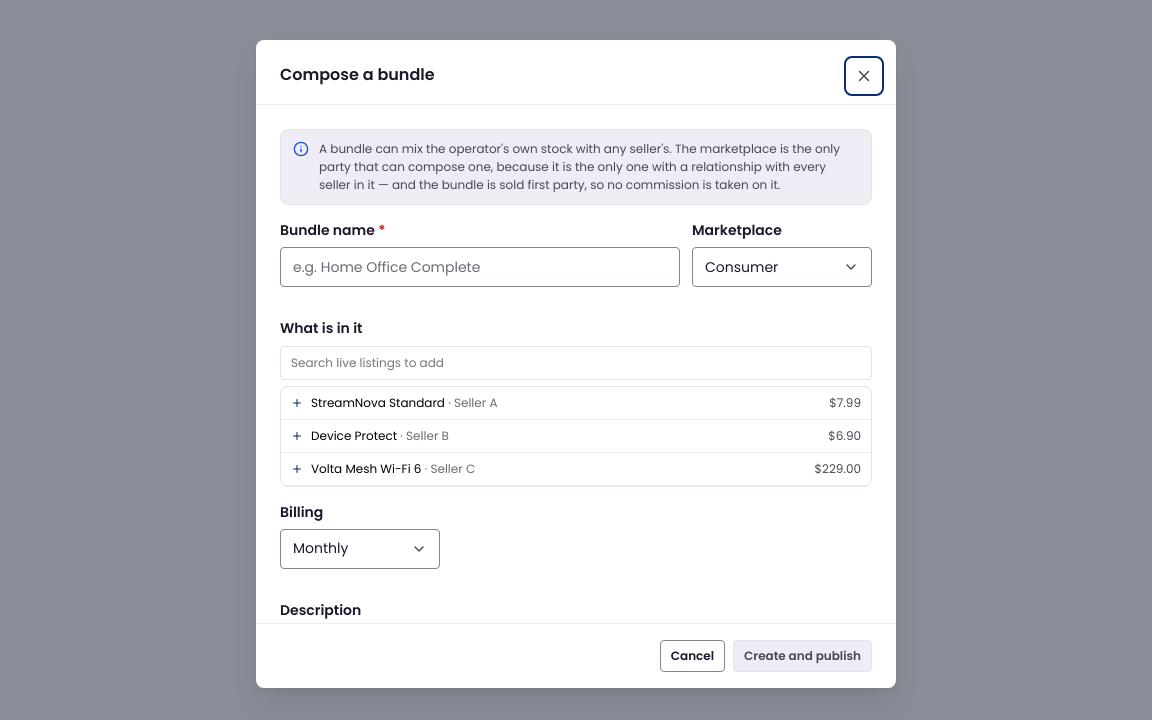
Test case: Compose a bundle, priced line by line › refuses a line below its seller floor and says which
Click the button "StreamNova Standard · Seller A $7.99" at (378, 402), box [281,387,871,420]
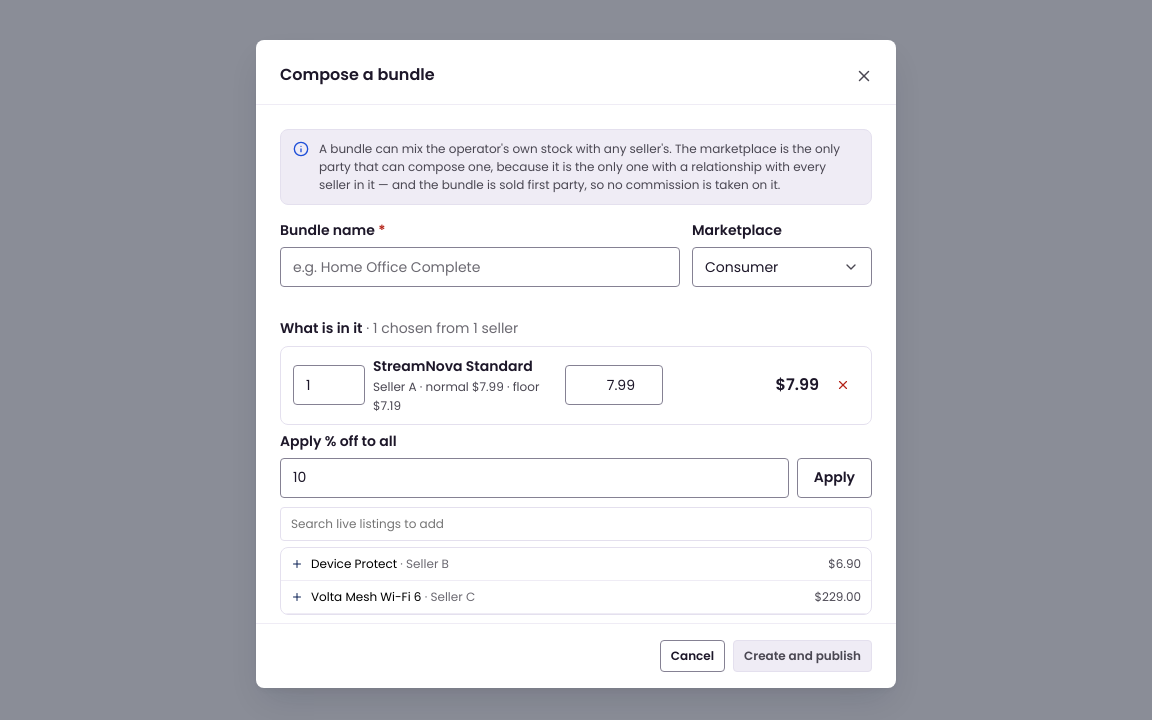
Click the button "Device Protect · Seller B $6.90" at (354, 563), box [281,548,871,581]
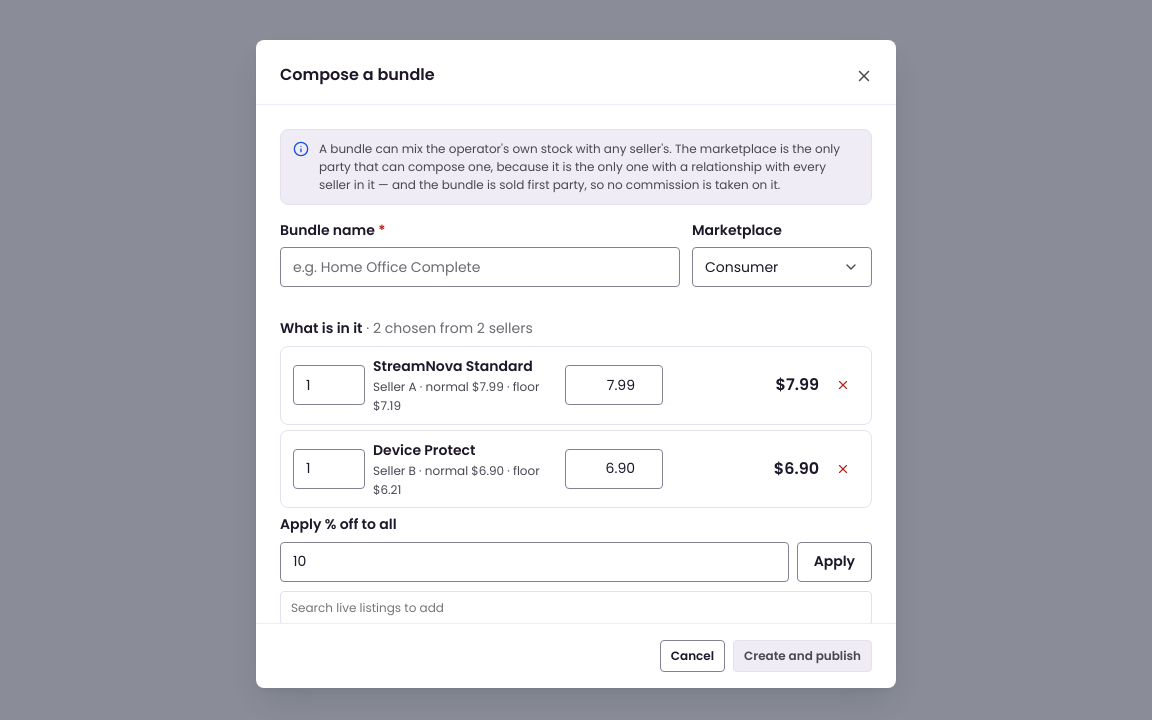
Type "Kit" into the field labelled "Bundle name *" at (480, 267), box [280,247,680,287]
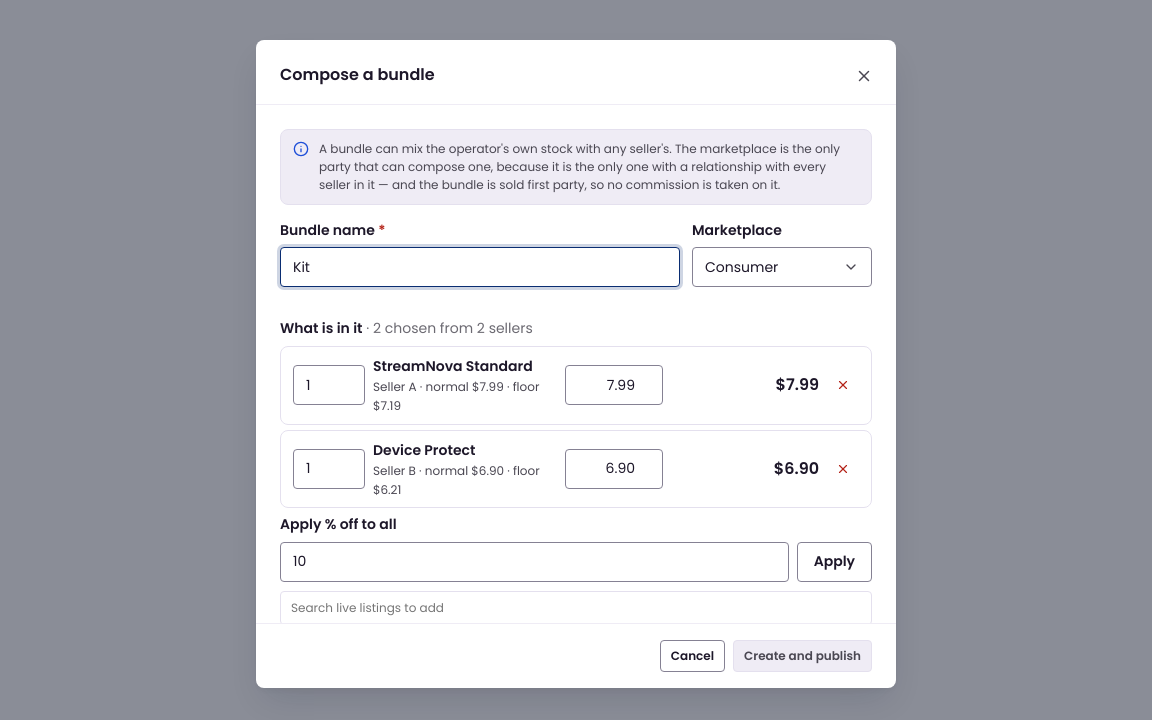
Replace the text in the number field named "Price in bundle for StreamNova Standard" with "7" at (614, 385), box [565,365,663,405]
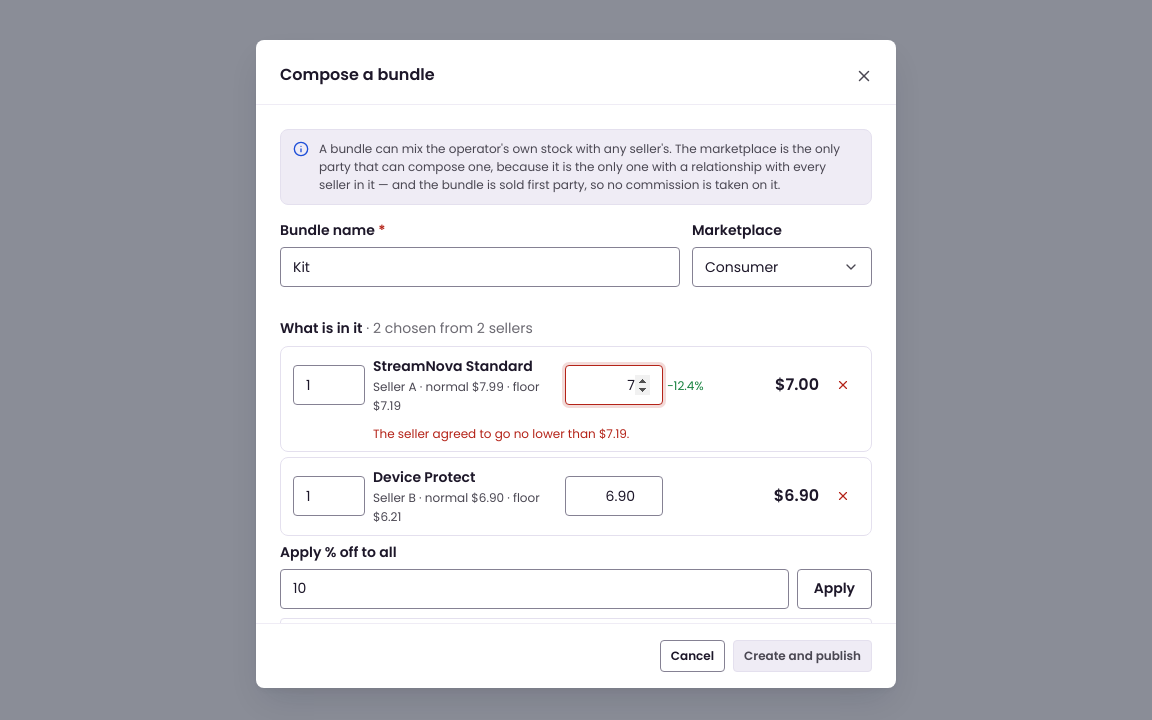
Expected: the button "Create and publish" is disabled, [733,640,872,672]
Now the number field named "Price in bundle for StreamNova Standard" is marked as invalid, box [565,365,663,405]
